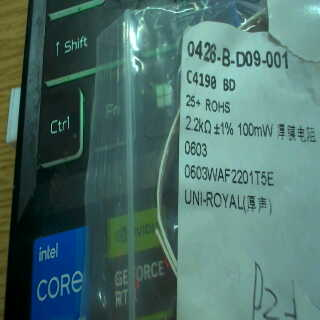2.2kR: (184, 111, 213, 138)
